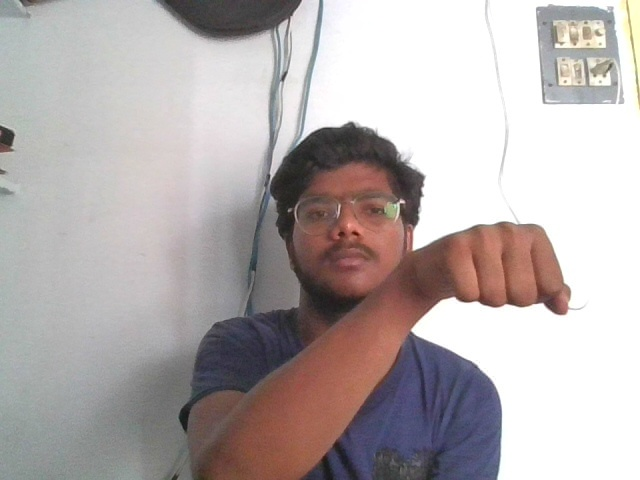Yes: (431, 218, 575, 320)
